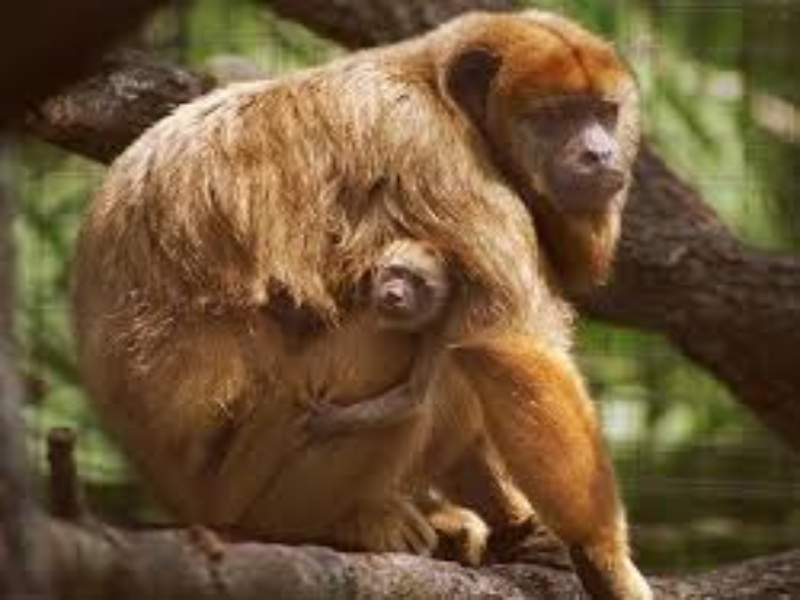monkey: (72, 16, 693, 594), (354, 235, 600, 480)
